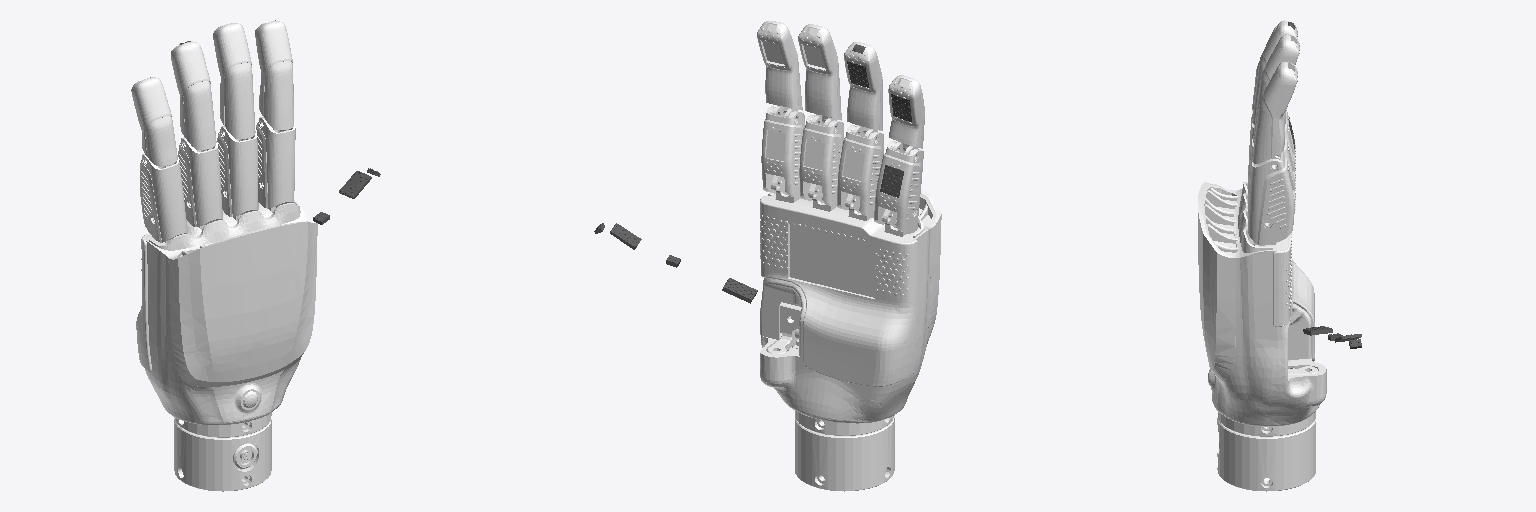
--- What the picture shows (computed from the rendered views, not written in the file) ---
3 views of the same robot in one strip: view 1: azimuth 30°, elevation 25°; view 2: azimuth 150°, elevation 25°; view 3: azimuth 270°, elevation 25° (orthographic).
Model urdf_left_with_force_sensor with 30 links and 29 joints (12 revolute, 17 fixed), rooted at base_link, posed all joints at 0.
Visible links, largest first — view 1: base_link, left_middle_2, left_index_2, left_ring_2, left_little_1, left_ring_1, left_middle_1, left_index_1, left_little_2; view 2: base_link, left_middle_2, left_index_2, left_ring_1, left_middle_1, left_index_1, left_little_1, left_ring_2, left_little_2, little_force_sensor_1; view 3: base_link, left_index_1, left_index_2, left_middle_2, left_ring_2.
Boxes of the visible links, x1,y1,x2,y2 form: base_link: [136, 200, 317, 491]; left_middle_2: [213, 23, 255, 140]; left_index_2: [255, 20, 293, 132]; left_ring_2: [171, 41, 216, 151]; left_little_1: [140, 154, 187, 242]; left_ring_1: [178, 137, 222, 226]; left_middle_1: [217, 126, 258, 216]; left_index_1: [256, 117, 295, 208]; left_little_2: [131, 77, 177, 168]; base_link: [760, 175, 941, 491]; left_middle_2: [798, 24, 841, 126]; left_index_2: [757, 21, 802, 117]; left_ring_1: [837, 125, 883, 217]; left_middle_1: [799, 115, 843, 206]; left_index_1: [761, 106, 804, 197]; left_little_1: [874, 141, 923, 233]; left_ring_2: [844, 42, 882, 137]; left_little_2: [888, 75, 924, 154]; little_force_sensor_1: [880, 165, 903, 197]; base_link: [1198, 182, 1326, 491]; left_index_1: [1248, 152, 1295, 244]; left_index_2: [1252, 62, 1297, 165]; left_middle_2: [1253, 34, 1299, 142]; left_ring_2: [1252, 20, 1297, 124].
Bounding box of the posed robot: 0.1658 × 0.0832 × 0.2468 m (x, y, z).
17 mesh visuals loaded from 30 distinct referenced files (17 binary STL); not drawn: 13 (reference not matched to a file when rendering).

robot.urdf — urdf_left_with_force_sensor:
<?xml version="1.0" encoding="utf-8"?>
<!-- This URDF was automatically created by SolidWorks to URDF Exporter! Originally created by Stephen Brawner ([email redacted]) 
     Commit Version: 1.6.0-4-g7f85cfe  Build Version: 1.6.7995.38578
     For more information, please see http://wiki.ros.org/sw_urdf_exporter -->
<robot
  name="urdf_left_with_force_sensor">
  <link
    name="base_link">
    <inertial>
      <origin
        xyz="2e-05 -0.0024500000000000004 0.07793000000000001"
        rpy="0 0 0" />
      <mass
        value="0.6273500000000001" />
      <inertia
        ixx="0.0014968368000000001"
        ixy="1.64393e-06"
        ixz="-2.527401e-05"
        iyy="0.0017872599099999999"
        iyz="0.00012212543"
        izz="0.00071434062" />
    </inertial>
    <visual>
      <origin
        xyz="0 0 0"
        rpy="0 0 0" />
      <geometry>
        <mesh
          filename="package://urdf_left_with_force_sensor/meshes/base_link.STL" />
      </geometry>
      <material
        name="">
        <color rgba="1 1 1 1" />
      </material>
    </visual>
    <collision>
      <origin
        xyz="0 0 0"
        rpy="0 0 0" />
      <geometry>
        <mesh
          filename="package://urdf_left_with_force_sensor/meshes/base_link.STL" />
      </geometry>
    </collision>
  </link>
  <link
    name="left_thumb_1">
    <inertial>
      <origin
        xyz="-0.026949999999999998 0.01478 0.07485"
        rpy="0 0 0" />
      <mass
        value="0.02407" />
      <inertia
        ixx="3.0396799999999998e-06"
        ixy="-1.2416e-07"
        ixz="8.392e-08"
        iyy="1.62329e-06"
        iyz="6.3491e-07"
        izz="2.25191e-06" />
    </inertial>
    <visual>
      <origin
        xyz="0 0 0"
        rpy="0 0 0" />
      <geometry>
        <mesh
          filename="package://urdf_left_with_force_sensor/meshes/left_thumb_1.STL" />
      </geometry>
      <material
        name="">
        <color
          rgba="1 1 1 1" />
      </material>
    </visual>
    <collision>
      <origin
        xyz="0 0 0"
        rpy="0 0 0" />
      <geometry>
        <mesh
          filename="package://urdf_left_with_force_sensor/meshes/left_thumb_1.STL" />
      </geometry>
    </collision>
  </link>
  <joint
    name="left_thumb_1_joint"
    type="revolute">
    <origin
      xyz="0.0269 0.02101 0.0689"
      rpy="0 0 0" />
    <parent
      link="base_link" />
    <child
      link="left_thumb_1" />
    <axis
      xyz="0 0 1" />
    <limit
      lower="0"
      upper="1.1641"
      effort="1"
      velocity="2" />
  </joint>
  <link
    name="left_thumb_2">
    <inertial>
      <origin
        xyz="-0.07454999999999999 0.03374 0.09742"
        rpy="0 0 0" />
      <mass
        value="0.01122" />
      <inertia
        ixx="1.11059e-06"
        ixy="-1.5098e-07"
        ixz="-3.9131000000000003e-07"
        iyy="1.5849400000000001e-06"
        iyz="-1.1285e-07"
        izz="1.18109e-06" />
    </inertial>
    <visual>
      <origin
        xyz="0 0 0"
        rpy="0 0 0" />
      <geometry>
        <mesh
          filename="package://urdf_left_with_force_sensor/meshes/left_thumb_2.STL" />
      </geometry>
      <material
        name="">
        <color rgba="1 1 1 1" />
      </material>
    </visual>
    <collision>
      <origin
        xyz="0 0 0"
        rpy="0 0 0" />
      <geometry>
        <mesh
          filename="package://urdf_left_with_force_sensor/meshes/left_thumb_2.STL" />
      </geometry>
    </collision>
  </link>
  <joint
    name="left_thumb_2_joint"
    type="revolute">
    <origin
      xyz="0.0073431 0.011232 0.0052"
      rpy="1.5708 0 -2.8798" />
    <parent
      link="left_thumb_1" />
    <child
      link="left_thumb_2" />
    <axis
      xyz="0 0 -1" />
    <limit
      lower="0"
      upper="0.5864"
      effort="2"
      velocity="1" />
  </joint>
  <link
    name="left_thumb_3">
    <inertial>
      <origin
        xyz="-0.1022 0.04117 0.1138"
        rpy="0 0 0" />
      <mass
        value="0.0189" />
      <inertia
        ixx="1.32723e-06"
        ixy="-2.7513e-07"
        ixz="-6.8709e-07"
        iyy="2.26117e-06"
        iyz="-1.8584999999999999e-07"
        izz="2.02611e-06" />
    </inertial>
    <visual>
      <origin
        xyz="0 0 0"
        rpy="0 0 0" />
      <geometry>
        <mesh
          filename="package://urdf_left_with_force_sensor/meshes/left_thumb_3.STL" />
      </geometry>
      <material
        name="">
        <color
          rgba="1 1 1 1" />
      </material>
    </visual>
    <collision>
      <origin
        xyz="0 0 0"
        rpy="0 0 0" />
      <geometry>
        <mesh
          filename="package://urdf_left_with_force_sensor/meshes/left_thumb_3.STL" />
      </geometry>
    </collision>
  </link>
  <joint
    name="left_thumb_3_joint"
    type="revolute">
    <origin
      xyz="-0.031403 0.021069 -0.001299"
      rpy="0 0 0" />
    <parent
      link="left_thumb_2" />
    <child
      link="left_thumb_3" />
    <axis
      xyz="0 0 -1" />
    <limit
      lower="0"
      upper="0.5"
      effort="1"
      velocity="2" />
    <mimic
        joint="left_thumb_2_joint"
        multiplier="0.8024"
        offset="0" />
  </joint>
  <link
    name="thumb_force_sensor_2">
    <inertial>
      <origin
        xyz="-2.43332410831479E-05 5.44992472824302E-05 -0.00109137310434532"
        rpy="0 0 0" />
      <mass
        value="9.06121246347756E-05" />
      <inertia
        ixx="3.34748296277895E-10"
        ixy="3.77358736112153E-14"
        ixz="3.52273723202254E-13"
        iyy="3.35821649138781E-10"
        iyz="1.08964939417378E-12"
        izz="5.88578470286886E-10" />
    </inertial>
    <visual>
      <origin
        xyz="0 0 0"
        rpy="0 0 0" />
      <geometry>
        <mesh
          filename="package://urdf_left_with_force_sensor/meshes/thumb_force_sensor_2.STL" />
      </geometry>
      <material
        name="">
        <color
          rgba="0.411764705882353 0.411764705882353 0.411764705882353 1" />
      </material>
    </visual>
    <collision>
      <origin
        xyz="0 0 0"
        rpy="0 0 0" />
      <geometry>
        <mesh
          filename="package://urdf_left_with_force_sensor/meshes/thumb_force_sensor_2.STL" />
      </geometry>
    </collision>
  </link>
  <joint
    name="thumb_force_sensor_2_joint"
    type="fixed">
    <origin
      xyz="-0.011771 0.01699 -0.0077514"
      rpy="1.8405 1.5705 -3.1416" />
    <parent
      link="left_thumb_3" />
    <child
      link="thumb_force_sensor_2" />
    <axis
      xyz="0 0 0" />
  </joint>
  <link
    name="left_thumb_4">
    <inertial>
      <origin
        xyz="-0.0163213563394194 0.00521928641987035 -0.00735104436106706"
        rpy="0 0 0" />
      <mass
        value="0.00878940797618241" />
      <inertia
        ixx="5.94897206401284E-07"
        ixy="2.54251361887254E-07"
        ixz="5.54085992162603E-11"
        iyy="7.79202349429445E-07"
        iyz="8.8965111980696E-11"
        izz="8.99824190088835E-07" />
    </inertial>
    <visual>
      <origin
        xyz="0 0 0"
        rpy="0 0 0" />
      <geometry>
        <mesh
          filename="package://urdf_left_with_force_sensor/meshes/left_thumb_4.STL" />
      </geometry>
      <material
        name="">
        <color rgba="1 1 1 1" />
      </material>
    </visual>
    <collision>
      <origin
        xyz="0 0 0"
        rpy="0 0 0" />
      <geometry>
        <mesh
          filename="package://urdf_left_with_force_sensor/meshes/left_thumb_4.STL" />
      </geometry>
    </collision>
  </link>
  <joint
    name="left_thumb_4_joint"
    type="revolute">
    <origin
      xyz="-0.0219027099524646 0.0128161397042487 -0.000300000000000231"
      rpy="0 0 0" />
    <parent
      link="left_thumb_3" />
    <child
      link="left_thumb_4" />
    <axis
      xyz="0 0 -1" />
    <limit
      lower="0"
      upper="3.14"
      effort="1"
      velocity="2" />
    <mimic
        joint="left_thumb_3_joint"
        multiplier="0.9487"
        offset="0" />
  </joint>
  <link
    name="thumb_force_sensor_3">
    <inertial>
      <origin
        xyz="1.23189696923445E-05 -0.000195538975680837 -0.000792005365136905"
        rpy="0 0 0" />
      <mass
        value="0.000276852313379015" />
      <inertia
        ixx="5.41173490291494E-09"
        ixy="-4.87700447907193E-13"
        ixz="-6.30024679424638E-13"
        iyy="2.55896079923591E-09"
        iyz="3.82351468308955E-11"
        izz="7.82764624814665E-09" />
    </inertial>
    <visual>
      <origin
        xyz="0 0 0"
        rpy="0 0 0" />
      <geometry>
        <mesh
          filename="package://urdf_left_with_force_sensor/meshes/thumb_force_sensor_3.STL" />
      </geometry>
      <material
        name="">
        <color
          rgba="0.411764705882353 0.411764705882353 0.411764705882353 1" />
      </material>
    </visual>
    <collision>
      <origin
        xyz="0 0 0"
        rpy="0 0 0" />
      <geometry>
        <mesh
          filename="package://urdf_left_with_force_sensor/meshes/thumb_force_sensor_3.STL" />
      </geometry>
    </collision>
  </link>
  <joint
    name="thumb_force_sensor_3_joint"
    type="fixed">
    <origin
      xyz="-0.014598 0.014721 -0.0073103"
      rpy="-0.18602 1.5708 0.84446" />
    <parent
      link="left_thumb_4" />
    <child
      link="thumb_force_sensor_3" />
    <axis
      xyz="0 0 0" />
  </joint>
  <link
    name="thumb_force_sensor_4">
    <inertial>
      <origin
        xyz="8.78777579448042E-07 0.000270130629645191 -0.00100448285176212"
        rpy="0 0 0" />
      <mass
        value="5.0258739392813E-05" />
      <inertia
        ixx="8.13578898809676E-11"
        ixy="-2.55516319944346E-14"
        ixz="2.01520896001805E-14"
        iyy="1.70778531226233E-10"
        iyz="-3.77224272937059E-12"
        izz="2.11644262323665E-10" />
    </inertial>
    <visual>
      <origin
        xyz="0 0 0"
        rpy="0 0 0" />
      <geometry>
        <mesh
          filename="package://urdf_left_with_force_sensor/meshes/thumb_force_sensor_4.STL" />
      </geometry>
      <material
        name="">
        <color
          rgba="0.411764705882353 0.411764705882353 0.411764705882353 1" />
      </material>
    </visual>
    <collision>
      <origin
        xyz="0 0 0"
        rpy="0 0 0" />
      <geometry>
        <mesh
          filename="package://urdf_left_with_force_sensor/meshes/thumb_force_sensor_4.STL" />
      </geometry>
    </collision>
  </link>
  <joint
    name="thumb_force_sensor_4_joint"
    type="fixed">
    <origin
      xyz="-0.028987 0.017301 -0.0073513"
      rpy="2.0775 -1.5708 -3.14" />
    <parent
      link="left_thumb_4" />
    <child
      link="thumb_force_sensor_4" />
    <axis
      xyz="0 0 0" />
  </joint>
  <link
    name="thumb_force_sensor_1">
    <inertial>
      <origin
        xyz="-1.66858232989106E-05 1.15630711571557E-05 -0.00107124647646149"
        rpy="0 0 0" />
      <mass
        value="0.000424630261957478" />
      <inertia
        ixx="9.01122065715071E-09"
        ixy="2.06673401320352E-14"
        ixz="2.31198472922275E-12"
        iyy="4.94557964402789E-09"
        iyz="1.1789230357668E-11"
        izz="1.35651342806704E-08" />
    </inertial>
    <visual>
      <origin
        xyz="0 0 0"
        rpy="0 0 0" />
      <geometry>
        <mesh
          filename="package://urdf_left_with_force_sensor/meshes/thumb_force_sensor_1.STL" />
      </geometry>
      <material
        name="">
        <color
          rgba="0.411764705882353 0.411764705882353 0.411764705882353 1" />
      </material>
    </visual>
    <collision>
      <origin
        xyz="0 0 0"
        rpy="0 0 0" />
      <geometry>
        <mesh
          filename="package://urdf_left_with_force_sensor/meshes/thumb_force_sensor_1.STL" />
      </geometry>
    </collision>
  </link>
  <joint
    name="thumb_force_sensor_1_joint"
    type="fixed">
    <origin
      xyz="-0.0087121 0.026305 -0.0089605"
      rpy="1.2213 1.5708 2.44" />
    <parent
      link="left_thumb_2" />
    <child
      link="thumb_force_sensor_1" />
    <axis
      xyz="0 0 0" />
  </joint>
  <link
    name="left_index_1">
    <inertial>
      <origin
        xyz="-0.032229999999999995 0.0012 0.16325"
        rpy="0 0 0" />
      <mass
        value="0.02456" />
      <inertia
        ixx="6.214600000000001e-06"
        ixy="-9.95e-09"
        ixz="-1.6013e-07"
        iyy="6.14166e-06"
        iyz="-2.5293000000000003e-07"
        izz="1.37478e-06" />
    </inertial>
    <visual>
      <origin
        xyz="0 0 0"
        rpy="0 0 0" />
      <geometry>
        <mesh
          filename="package://urdf_left_with_force_sensor/meshes/left_index_1.STL" />
      </geometry>
      <material
        name="">
        <color rgba="1 1 1 1" />
      </material>
    </visual>
    <collision>
      <origin
        xyz="0 0 0"
        rpy="0 0 0" />
      <geometry>
        <mesh
          filename="package://urdf_left_with_force_sensor/meshes/left_index_1.STL" />
      </geometry>
    </collision>
  </link>
  <joint
    name="left_index_1_joint"
    type="revolute">
    <origin
      xyz="0.038679 0.00056467 0.1564"
      rpy="1.6057 0 1.5708" />
    <parent
      link="base_link" />
    <child
      link="left_index_1" />
    <axis
      xyz="0 0 -1" />
    <limit
      lower="0"
      upper="1.4381"
      effort="1"
      velocity="2" />
  </joint>
  <link
    name="left_index_2">
    <inertial>
      <origin
        xyz="-0.03349 0.024120000000000003 0.19052000000000002"
        rpy="0 0 0" />
      <mass
        value="0.0124" />
      <inertia
        ixx="4.5689199999999996e-05"
        ixy="4.3484e-07"
        ixz="-4.3806e-07"
        iyy="2.01044e-05"
        iyz="2.1144599999999997e-05"
        izz="2.587996e-05" />
    </inertial>
    <visual>
      <origin
        xyz="0 0 0"
        rpy="0 0 0" />
      <geometry>
        <mesh
          filename="package://urdf_left_with_force_sensor/meshes/left_index_2.STL" />
      </geometry>
      <material
        name="">
        <color rgba="1 1 1 1" />
      </material>
    </visual>
    <collision>
      <origin
        xyz="0 0 0"
        rpy="0 0 0" />
      <geometry>
        <mesh
          filename="package://urdf_left_with_force_sensor/meshes/left_index_2.STL" />
      </geometry>
    </collision>
  </link>
  <joint
    name="left_index_2_joint"
    type="revolute">
    <origin
      xyz="0.0034259 0.032596 -0.00055"
      rpy="0 0 0" />
    <parent
      link="left_index_1" />
    <child
      link="left_index_2" />
    <axis
      xyz="0 0 -1" />
    <limit
      lower="0"
      upper="3.14"
      effort="1"
      velocity="2" />
    <mimic
        joint="left_index_1_joint"
        multiplier="1.0843"
        offset="0" />      
  </joint>
  <link
    name="index_force_sensor_2">
    <inertial>
      <origin
        xyz="-3.92383751107728E-06 0.000206469730308023 -0.000722888601662641"
        rpy="0 0 0" />
      <mass
        value="0.000255748193489218" />
      <inertia
        ixx="4.7987768166369E-09"
        ixy="8.64189585169657E-11"
        ixz="1.5042180282212E-12"
        iyy="2.43957953886802E-09"
        iyz="-3.05164404848785E-11"
        izz="7.12568463704975E-09" />
    </inertial>
    <visual>
      <origin
        xyz="0 0 0"
        rpy="0 0 0" />
      <geometry>
        <mesh
          filename="package://urdf_left_with_force_sensor/meshes/index_force_sensor_2.STL" />
      </geometry>
      <material
        name="">
        <color
          rgba="0.411764705882353 0.411764705882353 0.411764705882353 1" />
      </material>
    </visual>
    <collision>
      <origin
        xyz="0 0 0"
        rpy="0 0 0" />
      <geometry>
        <mesh
          filename="package://urdf_left_with_force_sensor/meshes/index_force_sensor_2.STL" />
      </geometry>
    </collision>
  </link>
  <joint
    name="index_force_sensor_2_joint"
    type="fixed">
    <origin
      xyz="0.0081655 0.037446 -0.0060795"
      rpy="-1.5708 1.5337 -1.9196" />
    <parent
      link="left_index_2" />
    <child
      link="index_force_sensor_2" />
    <axis
      xyz="0 0 0" />
  </joint>
  <link
    name="index_force_sensor_3">
    <inertial>
      <origin
        xyz="2.48712002496876E-05 -0.000345284176963695 -0.00133798867886123"
        rpy="0 0 0" />
      <mass
        value="6.79653911304577E-05" />
      <inertia
        ixx="1.31976081706364E-10"
        ixy="-5.65097989610319E-12"
        ixz="-7.80109914730126E-13"
        iyy="2.53434470713008E-10"
        iyz="9.12174625129574E-12"
        izz="2.80536896961268E-10" />
    </inertial>
    <visual>
      <origin
        xyz="0 0 0"
        rpy="0 0 0" />
      <geometry>
        <mesh
          filename="package://urdf_left_with_force_sensor/meshes/index_force_sensor_3.STL" />
      </geometry>
      <material
        name="">
        <color
          rgba="0.411764705882353 0.411764705882353 0.411764705882353 1" />
      </material>
    </visual>
    <collision>
      <origin
        xyz="0 0 0"
        rpy="0 0 0" />
      <geometry>
        <mesh
          filename="package://urdf_left_with_force_sensor/meshes/index_force_sensor_3.STL" />
      </geometry>
    </collision>
  </link>
  <joint
    name="index_force_sensor_3_joint"
    type="fixed">
    <origin
      xyz="0.0086237 0.052572 -0.0060954"
      rpy="-1.5708 1.5252 -0.87237" />
    <parent
      link="left_index_2" />
    <child
      link="index_force_sensor_3" />
    <axis
      xyz="0 0 0" />
  </joint>
  <link
    name="index_force_sensor_1">
    <inertial>
      <origin
        xyz="-4.39980862962375E-06 0.000116492429592427 -0.000567426247601172"
        rpy="0 0 0" />
      <mass
        value="0.000202794475942537" />
      <inertia
        ixx="3.38062498899254E-09"
        ixy="5.06878020530947E-11"
        ixz="2.18895973514009E-13"
        iyy="1.96425205496783E-09"
        iyz="-5.52626408641069E-12"
        izz="5.28129594144099E-09" />
    </inertial>
    <visual>
      <origin
        xyz="0 0 0"
        rpy="0 0 0" />
      <geometry>
        <mesh
          filename="package://urdf_left_with_force_sensor/meshes/index_force_sensor_1.STL" />
      </geometry>
      <material
        name="">
        <color
          rgba="0.411764705882353 0.411764705882353 0.411764705882353 1" />
      </material>
    </visual>
    <collision>
      <origin
        xyz="0 0 0"
        rpy="0 0 0" />
      <geometry>
        <mesh
          filename="package://urdf_left_with_force_sensor/meshes/index_force_sensor_1.STL" />
      </geometry>
    </collision>
  </link>
  <joint
    name="index_force_sensor_1_joint"
    type="fixed">
    <origin
      xyz="0.012046 0.019649 -0.006651"
      rpy="-1.5708 1.5351 -1.3587" />
    <parent
      link="left_index_1" />
    <child
      link="index_force_sensor_1" />
    <axis
      xyz="0 0 0" />
  </joint>
  <link
    name="left_middle_1">
    <inertial>
      <origin
        xyz="-0.00983 -0.01618 0.16336"
        rpy="0 0 0" />
      <mass
        value="0.02456" />
      <inertia
        ixx="6.2201e-06"
        ixy="-3.08e-09"
        ixz="6.238000000000001e-08"
        iyy="6.08085e-06"
        iyz="5.9592e-07"
        izz="1.43272e-06" />
    </inertial>
    <visual>
      <origin
        xyz="0 0 0"
        rpy="0 0 0" />
      <geometry>
        <mesh
          filename="package://urdf_left_with_force_sensor/meshes/left_middle_1.STL" />
      </geometry>
      <material
        name="">
        <color rgba="1 1 1 1" />
      </material>
    </visual>
    <collision>
      <origin
        xyz="0 0 0"
        rpy="0 0 0" />
      <geometry>
        <mesh
          filename="package://urdf_left_with_force_sensor/meshes/left_middle_1.STL" />
      </geometry>
    </collision>
  </link>
  <joint
    name="left_middle_1_joint"
    type="revolute">
    <origin
      xyz="0.0171 0.00056467 0.157"
      rpy="1.5708 0 1.5708" />
    <parent
      link="base_link" />
    <child
      link="left_middle_1" />
    <axis
      xyz="0 0 -1" />
    <limit
      lower="0"
      upper="1.4381"
      effort="1"
      velocity="2" />
  </joint>
  <link
    name="left_middle_2">
    <inertial>
      <origin
        xyz="-0.00928 -0.02389 0.21371"
        rpy="0 0 0" />
      <mass
        value="0.01299" />
      <inertia
        ixx="3.56712e-06"
        ixy="-7.719999999999999e-09"
        ixz="7.653e-08"
        iyy="3.63641e-06"
        iyz="3.398e-08"
        izz="3.7324e-07" />
    </inertial>
    <visual>
      <origin
        xyz="0 0 0"
        rpy="0 0 0" />
      <geometry>
        <mesh
          filename="package://urdf_left_with_force_sensor/meshes/left_middle_2.STL" />
      </geometry>
      <material
        name="">
        <color
          rgba="1 1 1 1" />
      </material>
    </visual>
    <collision>
      <origin
        xyz="0 0 0"
        rpy="0 0 0" />
      <geometry>
        <mesh
          filename="package://urdf_left_with_force_sensor/meshes/left_middle_2.STL" />
      </geometry>
    </collision>
  </link>
  <joint
    name="left_middle_2_joint"
    type="revolute">
    <origin
      xyz="0.0034259 0.032596 -0.00055"
      rpy="0 0 0" />
    <parent
      link="left_middle_1" />
    <child
      link="left_middle_2" />
    <axis
      xyz="0 0 -1" />
    <limit
      lower="0"
      upper="3.14"
      effort="1"
      velocity="2" />
    <mimic
        joint="left_middle_1_joint"
        multiplier="1.0843"
        offset="0" />
  </joint>
  <link
    name="middle_force_sensor_2">
    <inertial>
      <origin
        xyz="6.77351601335863E-07 2.94313228783732E-05 -0.000722425776846891"
        rpy="0 0 0" />
      <mass
        value="0.000262573593923131" />
      <inertia
        ixx="5.04148765936938E-09"
        ixy="1.87053180733119E-13"
        ixz="-1.9219839991417E-14"
        iyy="2.56777987860697E-09"
        iyz="3.47150599586582E-12"
        izz="7.49457837348363E-09" />
    </inertial>
    <visual>
      <origin
        xyz="0 0 0"
        rpy="0 0 0" />
      <geometry>
        <mesh
          filename="package://urdf_left_with_force_sensor/meshes/middle_force_sensor_2.STL" />
      </geometry>
      <material
        name="">
        <color
          rgba="0.411764705882353 0.411764705882353 0.411764705882353 1" />
      </material>
    </visual>
    <collision>
      <origin
        xyz="0 0 0"
        rpy="0 0 0" />
      <geometry>
        <mesh
          filename="package://urdf_left_with_force_sensor/meshes/middle_force_sensor_2.STL" />
      </geometry>
    </collision>
  </link>
  <joint
    name="middle_force_sensor_2_joint"
    type="fixed">
    <origin
      xyz="0.009086 0.040962 -0.0061003"
      rpy="-2.5053 1.5708 -2.8781" />
    <parent
      link="left_middle_2" />
    <child
      link="middle_force_sensor_2" />
    <axis
      xyz="0 0 0" />
  </joint>
  <link
    name="middle_force_sensor_3">
    <inertial>
      <origin
        xyz="-8.06940798625533E-08 -0.000365444698807449 -0.00127684015304248"
        rpy="0 0 0" />
      <mass
        value="6.64914272946033E-05" />
      <inertia
        ixx="1.27227716200634E-10"
        ixy="-8.96643675852232E-15"
        ixz="-8.77104798931421E-15"
        iyy="2.43691020872239E-10"
        iyz="7.61276541489738E-12"
        izz="2.75875028961867E-10" />
    </inertial>
    <visual>
      <origin
        xyz="0 0 0"
        rpy="0 0 0" />
      <geometry>
        <mesh
          filename="package://urdf_left_with_force_sensor/meshes/middle_force_sensor_3.STL" />
      </geometry>
      <material
        name="">
        <color
          rgba="0.411764705882353 0.411764705882353 0.411764705882353 1" />
      </material>
    </visual>
    <collision>
      <origin
        xyz="0 0 0"
        rpy="0 0 0" />
      <geometry>
        <mesh
          filename="package://urdf_left_with_force_sensor/meshes/middle_force_sensor_3.STL" />
      </geometry>
    </collision>
  </link>
  <joint
    name="middle_force_sensor_3_joint"
    type="fixed">
    <origin
      xyz="0 0.014323 -0.0048039"
      rpy="-1.0472 0 0" />
    <parent
      link="middle_force_sensor_2" />
    <child
      link="middle_force_sensor_3" />
    <axis
      xyz="0 0 0" />
  </joint>
  <link
    name="middle_force_sensor_1">
    <inertial>
      <origin
        xyz="-2.38805233448991E-07 0.00011657525419928 -0.00056742615707274"
        rpy="0 0 0" />
      <mass
        value="0.000202794522112888" />
      <inertia
        ixx="3.3824362190208E-09"
        ixy="2.84614711222524E-14"
        ixz="2.15581663153047E-14"
        iyy="1.96244127906411E-09"
        iyz="-5.53035966625832E-12"
        izz="5.28129636598898E-09" />
    </inertial>
    <visual>
      <origin
        xyz="0 0 0"
        rpy="0 0 0" />
      <geometry>
        <mesh
          filename="package://urdf_left_with_force_sensor/meshes/middle_force_sensor_1.STL" />
      </geometry>
      <material
        name="">
        <color
          rgba="0.411764705882353 0.411764705882353 0.411764705882353 1" />
      </material>
    </visual>
    <collision>
      <origin
        xyz="0 0 0"
        rpy="0 0 0" />
      <geometry>
        <mesh
          filename="package://urdf_left_with_force_sensor/meshes/middle_force_sensor_1.STL" />
      </geometry>
    </collision>
  </link>
  <joint
    name="middle_force_sensor_1_joint"
    type="fixed">
    <origin
      xyz="0.012046 0.019649 -0.006651"
      rpy="-2.4062 1.5708 -2.1941" />
    <parent
      link="left_middle_1" />
    <child
      link="middle_force_sensor_1" />
    <axis
      xyz="0 0 0" />
  </joint>
  <link
    name="left_ring_1">
    <inertial>
      <origin
        xyz="0.011519999999999999 0.0010500000000000002 0.16331"
        rpy="0 0 0" />
      <mass
        value="0.02564" />
      <inertia
        ixx="6.281510000000001e-06"
        ixy="1.501e-08"
        ixz="2.6019e-07"
        iyy="6.20342e-06"
        iyz="-2.1600999999999999e-07"
        izz="1.4026700000000002e-06" />
    </inertial>
    <visual>
      <origin
        xyz="0 0 0"
        rpy="0 0 0" />
      <geometry>
        <mesh
          filename="package://urdf_left_with_force_sensor/meshes/left_ring_1.STL" />
      </geometry>
      <material
        name="">
        <color rgba="1 1 1 1" />
      </material>
    </visual>
    <collision>
      <origin
        xyz="0 0 0"
        rpy="0 0 0" />
      <geometry>
        <mesh
          filename="package://urdf_left_with_force_sensor/meshes/left_ring_1.STL" />
      </geometry>
    </collision>
  </link>
  <joint
    name="left_ring_1_joint"
    type="revolute">
    <origin
      xyz="-0.0045302 0.00056467 0.15683"
      rpy="1.5184 0 1.5708" />
    <parent
      link="base_link" />
    <child
      link="left_ring_1" />
    <axis
      xyz="0 0 -1" />
    <limit
      lower="0"
      upper="1.4381"
      effort="1"
      velocity="2" />
  </joint>
  <link
    name="left_ring_2">
    <inertial>
      <origin
        xyz="0.01267 0.024120000000000003 0.19037"
        rpy="0 0 0" />
      <mass
        value="0.0124" />
      <inertia
        ixx="4.56148e-05"
        ixy="-1.40969e-06"
        ixz="1.28852e-06"
        iyy="2.01044e-05"
        iyz="2.110204e-05"
        izz="2.595436e-05" />
    </inertial>
    <visual>
      <origin
        xyz="0 0 0"
        rpy="0 0 0" />
      <geometry>
        <mesh
          filename="package://urdf_left_with_force_sensor/meshes/left_ring_2.STL" />
      </geometry>
      <material
        name="">
        <color rgba="1 1 1 1" />
      </material>
    </visual>
    <collision>
      <origin
        xyz="0 0 0"
        rpy="0 0 0" />
      <geometry>
        <mesh
          filename="package://urdf_left_with_force_sensor/meshes/left_ring_2.STL" />
      </geometry>
    </collision>
  </link>
  <joint
    name="left_ring_2_joint"
    type="revolute">
    <origin
      xyz="0.0034259 0.032596 -0.00055"
      rpy="0 0 0" />
    <parent
      link="left_ring_1" />
    <child
      link="left_ring_2" />
    <axis
      xyz="0 0 -1" />
    <limit
      lower="0"
      upper="3.14"
      effort="1"
      velocity="2" />
    <mimic
        joint="left_ring_1_joint"
        multiplier="1.0843"
        offset="0" />
  </joint>
  <link
    name="ring_force_sensor_2">
    <inertial>
      <origin
        xyz="1.52347834277144E-05 0.00020594419620118 -0.000722888366235852"
        rpy="0 0 0" />
      <mass
        value="0.000255748190883603" />
      <inertia
        ixx="4.79445247032037E-09"
        ixy="-1.32856442479421E-10"
        ixz="-1.33138092961345E-12"
        iyy="2.4439035683218E-09"
        iyz="-3.05245098030189E-11"
        izz="7.12568419691734E-09" />
    </inertial>
    <visual>
      <origin
        xyz="0 0 0"
        rpy="0 0 0" />
      <geometry>
        <mesh
          filename="package://urdf_left_with_force_sensor/meshes/ring_force_sensor_2.STL" />
      </geometry>
      <material
        name="">
        <color
          rgba="0.411764705882353 0.411764705882353 0.411764705882353 1" />
      </material>
    </visual>
    <collision>
      <origin
        xyz="0 0 0"
        rpy="0 0 0" />
      <geometry>
        <mesh
          filename="package://urdf_left_with_force_sensor/meshes/ring_force_sensor_2.STL" />
      </geometry>
    </collision>
  </link>
  <joint
    name="ring_force_sensor_2_joint"
    type="fixed">
    <origin
      xyz="0.0081655 0.037446 -0.0060795"
      rpy="1.5708 1.5151 1.222" />
    <parent
      link="left_ring_2" />
    <child
      link="ring_force_sensor_2" />
    <axis
      xyz="0 0 0" />
  </joint>
  <link
    name="ring_force_sensor_3">
    <inertial>
      <origin
        xyz="-0.018987750288989 0.0666666818382249 0.0130188172795586"
        rpy="0 0 0" />
      <mass
        value="6.79657632016268E-05" />
      <inertia
        ixx="1.32111152752531E-10"
        ixy="7.12098038272761E-12"
        ixz="-8.55173235015504E-13"
        iyy="2.66757366976318E-10"
        iyz="1.63108112511305E-11"
        izz="2.67085052477174E-10" />
    </inertial>
    <visual>
      <origin
        xyz="0 0 0"
        rpy="0 0 0" />
      <geometry>
        <mesh
          filename="package://urdf_left_with_force_sensor/meshes/ring_force_sensor_3.STL" />
      </geometry>
      <material
        name="">
        <color
          rgba="0.411764705882353 0.411764705882353 0.411764705882353 1" />
      </material>
    </visual>
    <collision>
      <origin
        xyz="0 0 0"
        rpy="0 0 0" />
      <geometry>
        <mesh
          filename="package://urdf_left_with_force_sensor/meshes/ring_force_sensor_3.STL" />
      </geometry>
    </collision>
  </link>
  <joint
    name="ring_force_sensor_3_joint"
    type="fixed">
    <origin
      xyz="0.0086202 -0.01538 -0.028643"
      rpy="1.7654 1.5138 1.9769" />
    <parent
      link="left_ring_2" />
    <child
      link="ring_force_sensor_3" />
    <axis
      xyz="0 0 0" />
  </joint>
  <link
    name="ring_force_sensor_1">
    <inertial>
      <origin
        xyz="6.00203522563292E-06 0.000116421389792051 -0.000567426346187727"
        rpy="0 0 0" />
      <mass
        value="0.000202794434376474" />
      <inertia
        ixx="3.37837011170993E-09"
        ixy="-7.58787529691318E-11"
        ixz="-2.74580424569917E-13"
        iyy="1.96650618264834E-09"
        iyz="-5.5239313808051E-12"
        izz="5.28129521919661E-09" />
    </inertial>
    <visual>
      <origin
        xyz="0 0 0"
        rpy="0 0 0" />
      <geometry>
        <mesh
          filename="package://urdf_left_with_force_sensor/meshes/ring_force_sensor_1.STL" />
      </geometry>
      <material
        name="">
        <color
          rgba="0.411764705882353 0.411764705882353 0.411764705882353 1" />
      </material>
    </visual>
    <collision>
      <origin
        xyz="0 0 0"
        rpy="0 0 0" />
      <geometry>
        <mesh
          filename="package://urdf_left_with_force_sensor/meshes/ring_force_sensor_1.STL" />
      </geometry>
    </collision>
  </link>
  <joint
    name="ring_force_sensor_1_joint"
    type="fixed">
    <origin
      xyz="0.012046 0.019649 -0.006651"
      rpy="1.5708 1.5172 1.7829" />
    <parent
      link="left_ring_1" />
    <child
      link="ring_force_sensor_1" />
    <axis
      xyz="0 0 0" />
  </joint>
  <link
    name="left_little_1">
    <inertial>
      <origin
        xyz="0.03325 0.00124 0.15954"
        rpy="0 0 0" />
      <mass
        value="0.02456" />
      <inertia
        ixx="6.15542e-06"
        ixy="2.33e-08"
        ixz="5.1287e-07"
        iyy="6.1396099999999995e-06"
        iyz="-2.3261000000000002e-07"
        izz="1.41681e-06" />
    </inertial>
    <visual>
      <origin
        xyz="0 0 0"
        rpy="0 0 0" />
      <geometry>
        <mesh
          filename="package://urdf_left_with_force_sensor/meshes/left_little_1.STL" />
      </geometry>
      <material
        name="">
        <color rgba="1 1 1 1" />
      </material>
    </visual>
    <collision>
      <origin
        xyz="0 0 0"
        rpy="0 0 0" />
      <geometry>
        <mesh
          filename="package://urdf_left_with_force_sensor/meshes/left_little_1.STL" />
      </geometry>
    </collision>
  </link>
  <joint
    name="left_little_1_joint"
    type="revolute">
    <origin
      xyz="-0.025916 0.00056467 0.15365"
      rpy="1.4661 0 1.5708" />
    <parent
      link="base_link" />
    <child
      link="left_little_1" />
    <axis
      xyz="0 0 -1" />
    <limit
      lower="0"
      upper="1.4381"
      effort="1"
      velocity="2" />
  </joint>
  <link
    name="left_little_2">
    <inertial>
      <origin
        xyz="0.03867 -0.02782 0.20235"
        rpy="0 0 0" />
      <mass
        value="0.009720000000000001" />
      <inertia
        ixx="1.6975399999999999e-06"
        ixy="-1.73e-09"
        ixz="1.8642e-07"
        iyy="1.7773499999999998e-06"
        iyz="-2.2100000000000003e-08"
        izz="2.8921e-07" />
    </inertial>
    <visual>
      <origin
        xyz="0 0 0"
        rpy="0 0 0" />
      <geometry>
        <mesh
          filename="package://urdf_left_with_force_sensor/meshes/left_little_2.STL" />
      </geometry>
      <material
        name="">
        <color rgba="1 1 1 1" />
      </material>
    </visual>
    <collision>
      <origin
        xyz="0 0 0"
        rpy="0 0 0" />
      <geometry>
        <mesh
          filename="package://urdf_left_with_force_sensor/meshes/left_little_2.STL" />
      </geometry>
    </collision>
  </link>
  <joint
    name="left_little_2_joint"
    type="revolute">
    <origin
      xyz="0.0034259 0.032596 -0.00055"
      rpy="0 0 0" />
    <parent
      link="left_little_1" />
    <child
      link="left_little_2" />
    <axis
      xyz="0 0 -1" />
    <limit
      lower="0"
      upper="3.14"
      effort="1"
      velocity="2" />
    <mimic
        joint="left_little_1_joint"
        multiplier="1.0843"
        offset="0" />  
  </joint>
  <link
    name="little_force_sensor_2">
    <inertial>
      <origin
        xyz="0.0233410916816945 -0.0206057990619895 -0.0197632528662803"
        rpy="0 0 0" />
      <mass
        value="0.000280246748486092" />
      <inertia
        ixx="5.38916583855123E-09"
        ixy="5.7201609474287E-11"
        ixz="-2.9189249553302E-10"
        iyy="6.63241313034516E-09"
        iyz="-2.29244493996819E-09"
        izz="4.1372515955786E-09" />
    </inertial>
    <visual>
      <origin
        xyz="0 0 0"
        rpy="0 0 0" />
      <geometry>
        <mesh
          filename="package://urdf_left_with_force_sensor/meshes/little_force_sensor_2.STL" />
      </geometry>
      <material
        name="">
        <color
          rgba="0.411764705882353 0.411764705882353 0.411764705882353 1" />
      </material>
    </visual>
    <collision>
      <origin
        xyz="0 0 0"
        rpy="0 0 0" />
      <geometry>
        <mesh
          filename="package://urdf_left_with_force_sensor/meshes/little_force_sensor_2.STL" />
      </geometry>
    </collision>
  </link>
  <joint
    name="little_force_sensor_2_joint"
    type="fixed">
    <origin
      xyz="0.0086237 0.053732 0.019972"
      rpy="1.2692 1.4573 1.9687" />
    <parent
      link="left_little_2" />
    <child
      link="little_force_sensor_2" />
    <axis
      xyz="0 0 0" />
  </joint>
  <link
    name="little_force_sensor_3">
    <inertial>
      <origin
        xyz="-6.37037929382966E-05 -0.000437210532086563 -0.00112816117341033"
        rpy="0 0 0" />
      <mass
        value="6.10536670141782E-05" />
      <inertia
        ixx="1.11591596284104E-10"
        ixy="1.4892328691308E-11"
        ixz="1.18294492342107E-12"
        iyy="2.17206534672885E-10"
        iyz="8.0788357087695E-12"
        izz="2.52052305204087E-10" />
    </inertial>
    <visual>
      <origin
        xyz="0 0 0"
        rpy="0 0 0" />
      <geometry>
        <mesh
          filename="package://urdf_left_with_force_sensor/meshes/little_force_sensor_3.STL" />
      </geometry>
      <material
        name="">
        <color
          rgba="0.411764705882353 0.411764705882353 0.411764705882353 1" />
      </material>
    </visual>
    <collision>
      <origin
        xyz="0 0 0"
        rpy="0 0 0" />
      <geometry>
        <mesh
          filename="package://urdf_left_with_force_sensor/meshes/little_force_sensor_3.STL" />
      </geometry>
    </collision>
  </link>
  <joint
    name="little_force_sensor_3_joint"
    type="fixed">
    <origin
      xyz="0.0063973 0.042707 -0.0061154"
      rpy="1.5708 1.4336 2.2761" />
    <parent
      link="left_little_2" />
    <child
      link="little_force_sensor_3" />
    <axis
      xyz="0 0 0" />
  </joint>
  <link
    name="little_force_sensor_1">
    <inertial>
      <origin
        xyz="-0.00420187695671251 -0.0375159744513207 0.0151221430114555"
        rpy="0 0 0" />
      <mass
        value="0.000202794502264301" />
      <inertia
        ixx="3.37621922269687E-09"
        ixy="-5.57638291775712E-11"
        ixz="1.64362343088757E-10"
        iyy="2.88227222909127E-09"
        iyz="1.47325401248571E-09"
        izz="4.36768276890867E-09" />
    </inertial>
    <visual>
      <origin
        xyz="0 0 0"
        rpy="0 0 0" />
      <geometry>
        <mesh
          filename="package://urdf_left_with_force_sensor/meshes/little_force_sensor_1.STL" />
      </geometry>
      <material
        name="">
        <color
          rgba="0.411764705882353 0.411764705882353 0.411764705882353 1" />
      </material>
    </visual>
    <collision>
      <origin
        xyz="0 0 0"
        rpy="0 0 0" />
      <geometry>
        <mesh
          filename="package://urdf_left_with_force_sensor/meshes/little_force_sensor_1.STL" />
      </geometry>
    </collision>
  </link>
  <joint
    name="little_force_sensor_1_joint"
    type="fixed">
    <origin
      xyz="0.0098773 0.060279 -0.0066672"
      rpy="1.5708 1.4597 1.2289" />
    <parent
      link="left_little_1" />
    <child
      link="little_force_sensor_1" />
    <axis
      xyz="0 0 0" />
  </joint>
  <link
    name="palm_force_sensor">
    <inertial>
      <origin
        xyz="-0.000120093335186366 0.000717297413656857 -0.000692889069963995"
        rpy="0 0 0" />
      <mass
        value="0.00240886556268531" />
      <inertia
        ixx="1.79237847416289E-07"
        ixy="-3.62335251185339E-10"
        ixz="2.06838829647024E-10"
        iyy="5.01887324843794E-07"
        iyz="-4.23537057642119E-10"
        izz="6.80017237748917E-07" />
    </inertial>
    <visual>
      <origin
        xyz="0 0 0"
        rpy="0 0 0" />
      <geometry>
        <mesh
          filename="package://urdf_left_with_force_sensor/meshes/palm_force_sensor.STL" />
      </geometry>
      <material
        name="">
        <color
          rgba="0.411764705882353 0.411764705882353 0.411764705882353 1" />
      </material>
    </visual>
    <collision>
      <origin
        xyz="0 0 0"
        rpy="0 0 0" />
      <geometry>
        <mesh
          filename="package://urdf_left_with_force_sensor/meshes/palm_force_sensor.STL" />
      </geometry>
    </collision>
  </link>
  <joint
    name="palm_force_sensor_joint"
    type="fixed">
    <origin
      xyz="0.00036819 0.012296 0.1196"
      rpy="1.5708 0 3.1416" />
    <parent
      link="base_link" />
    <child
      link="palm_force_sensor" />
    <axis
      xyz="0 0 0" />
  </joint>
</robot>
